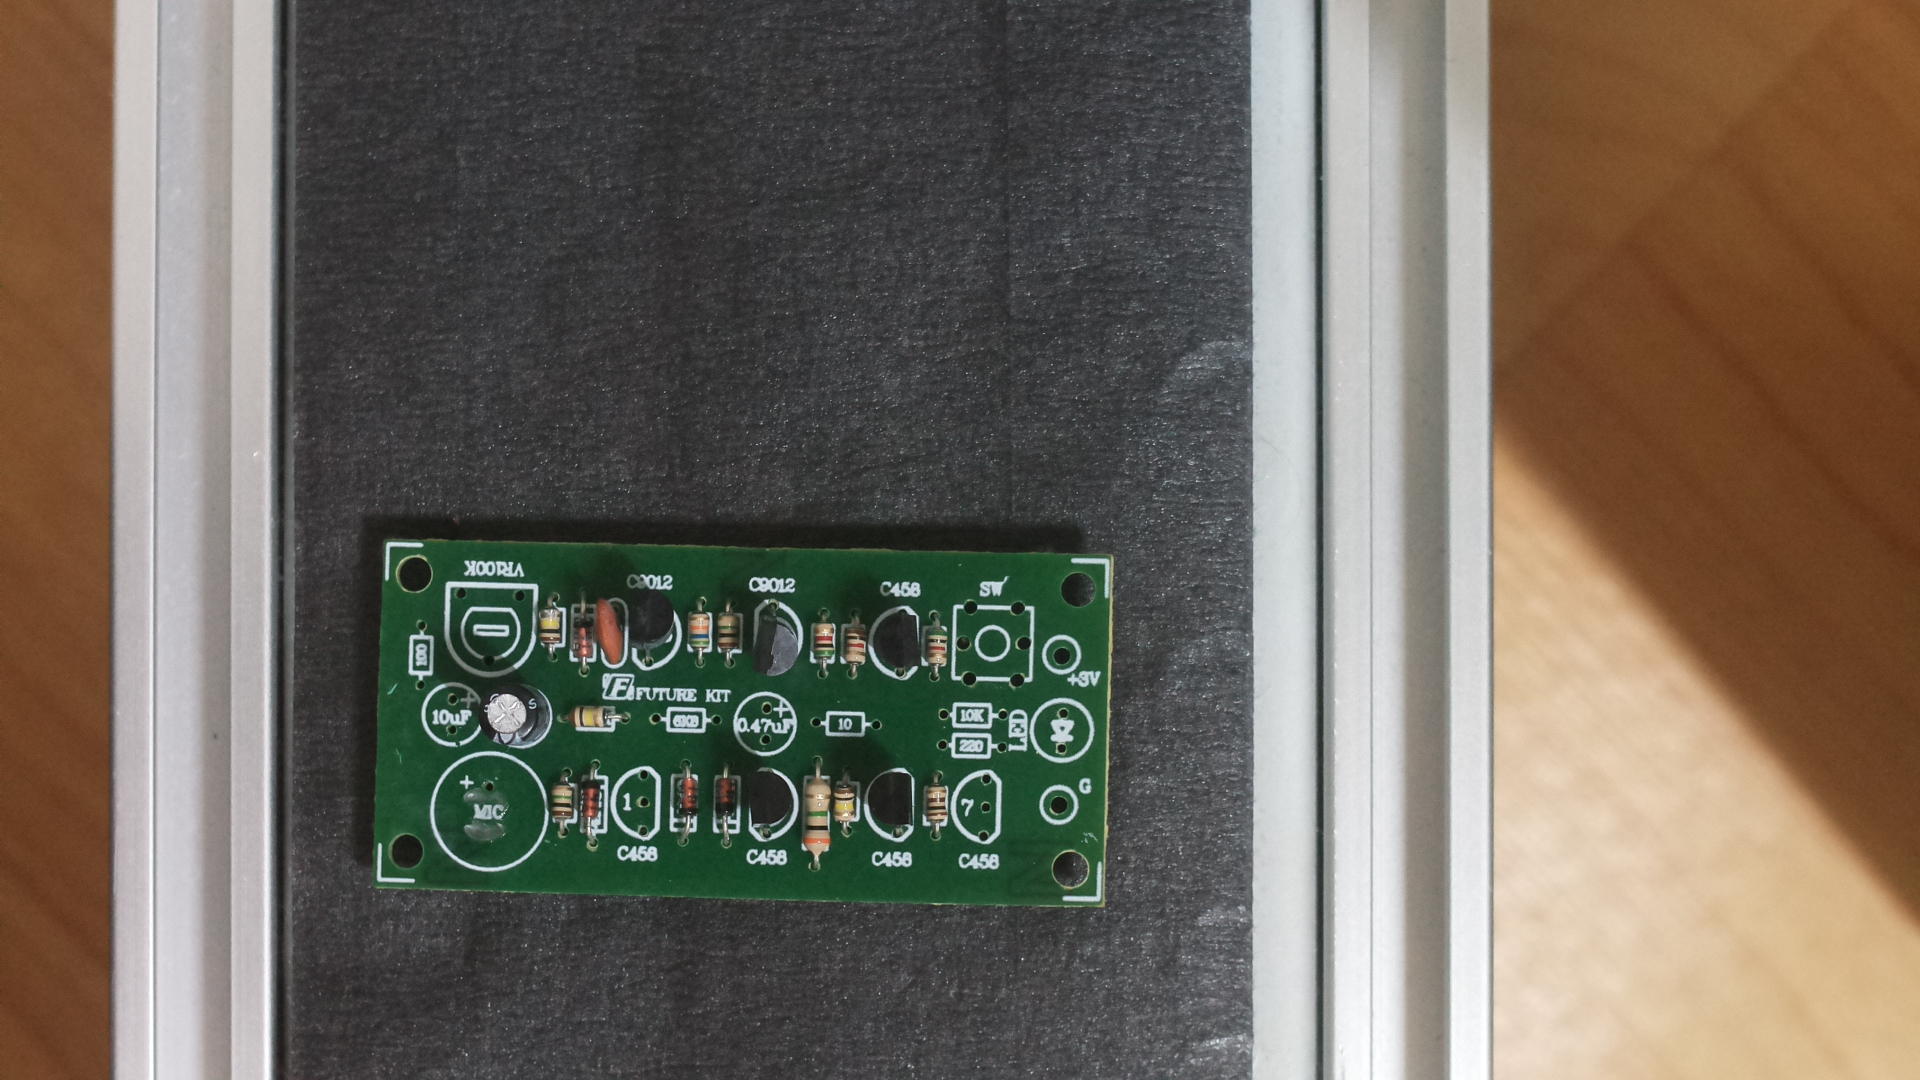A_Missing_part: (360, 513, 1135, 942)
